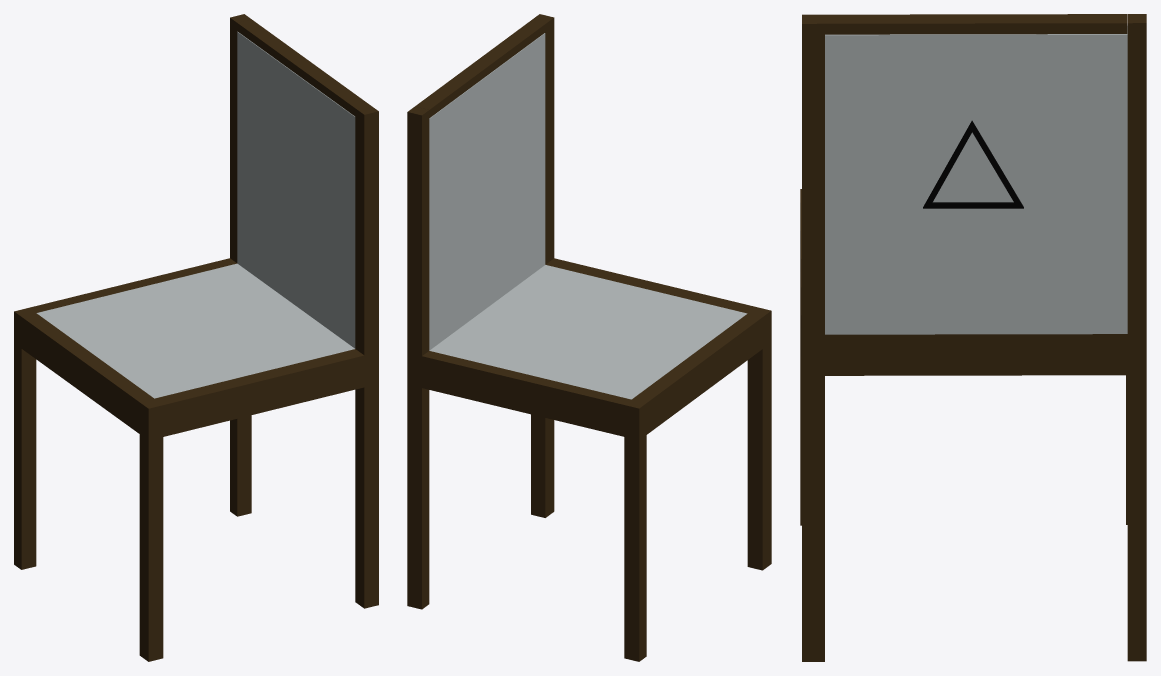
File: trokut.fbx
3 renders of one model, left to right at view 1: azimuth 30°, elevation 25°; view 2: azimuth 150°, elevation 25°; view 3: azimuth 270°, elevation 25°, orthographic. The views are drawn at different scales.
Parts seen in each view (by area): view 1: Cube; view 2: Cube; view 3: Cube, Plane.001.
Boxes of the visible parts, bbox=[...] form: Cube: bbox=[14, 14, 378, 661]; Cube: bbox=[407, 14, 771, 661]; Cube: bbox=[800, 14, 1146, 661]; Plane.001: bbox=[923, 120, 1023, 208].
Size of the model in its own units: 202 by 409 by 201.
